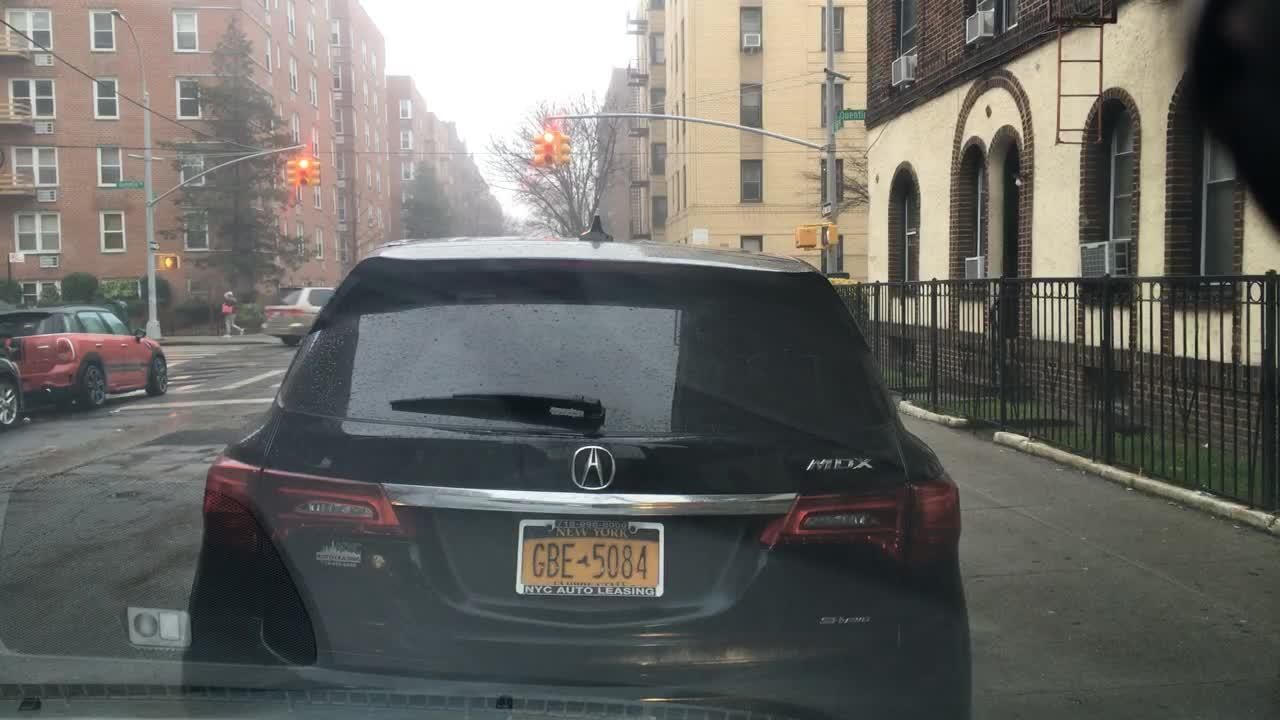acura: (561, 431, 620, 502)
